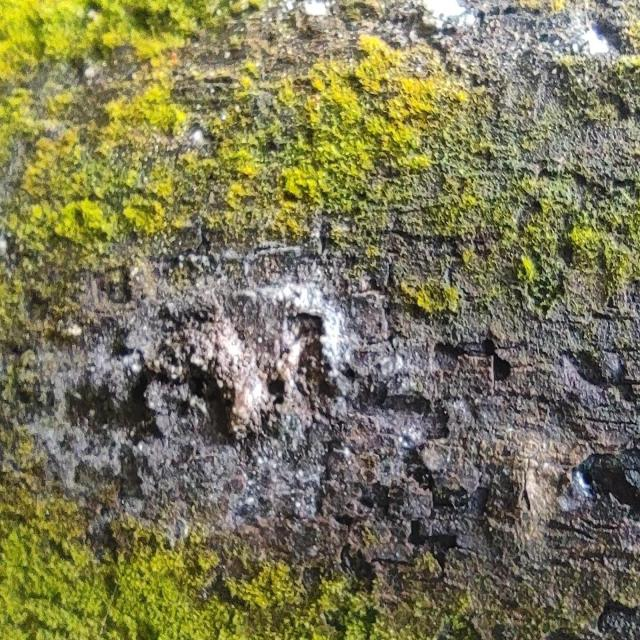Stem_Bleeding: (150, 138, 535, 512)
